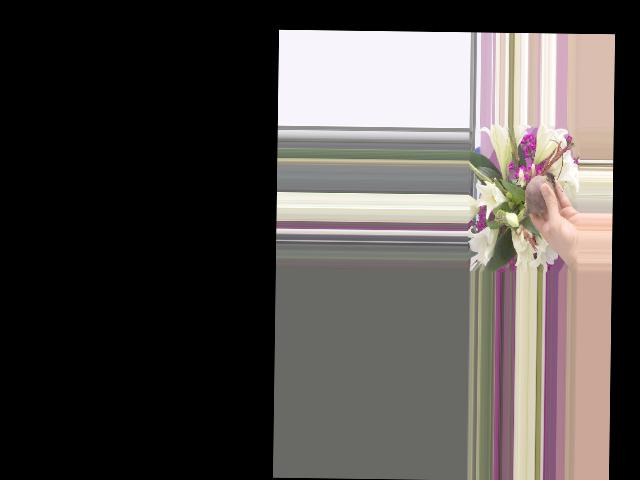beet: (518, 171, 555, 224)
